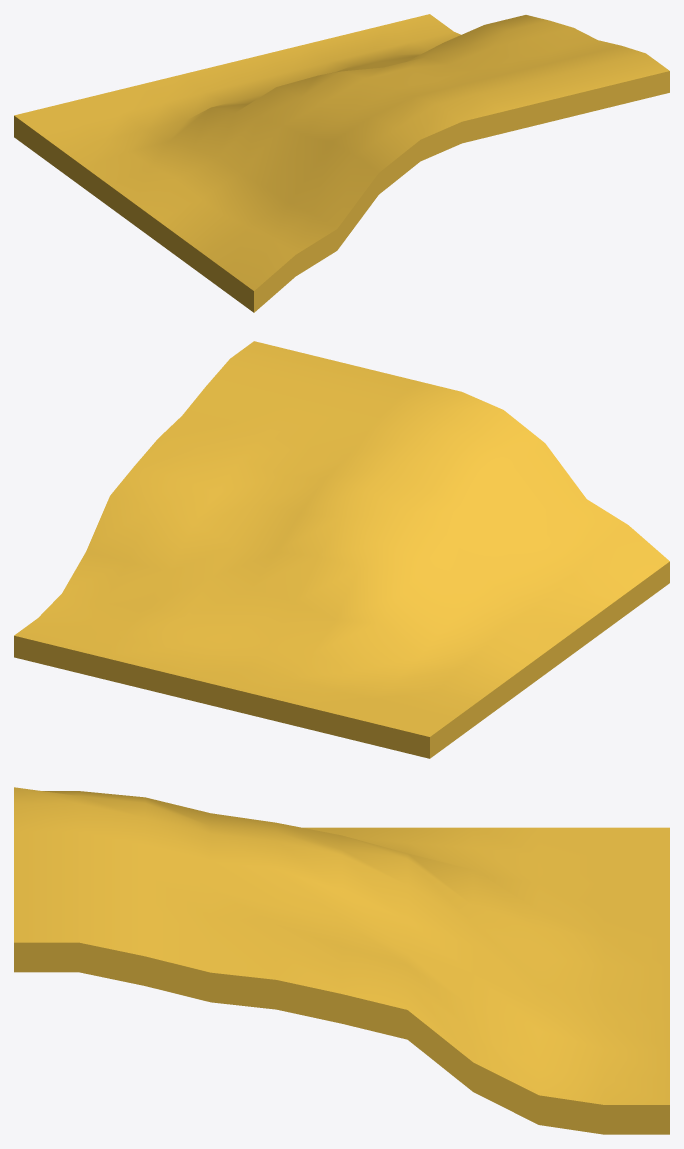
The model's file is Flach - Unten - Ecke a - b.fbx.
The picture shows the model from 3 angles, top to bottom: view 1: azimuth 30°, elevation 25°; view 2: azimuth 150°, elevation 25°; view 3: azimuth 270°, elevation 25°; orthographic projection. The views are drawn at different scales.
Visible parts, largest first — view 1: Flach - Unten - Ecke a - b; view 2: Flach - Unten - Ecke a - b; view 3: Flach - Unten - Ecke a - b.
Boxes of the visible parts, x1,y1,x2,y2 form: Flach - Unten - Ecke a - b: (14,14,669,312); Flach - Unten - Ecke a - b: (14,341,669,758); Flach - Unten - Ecke a - b: (14,787,669,1134).
Size of the model in its own units: 394 by 127 by 394.
